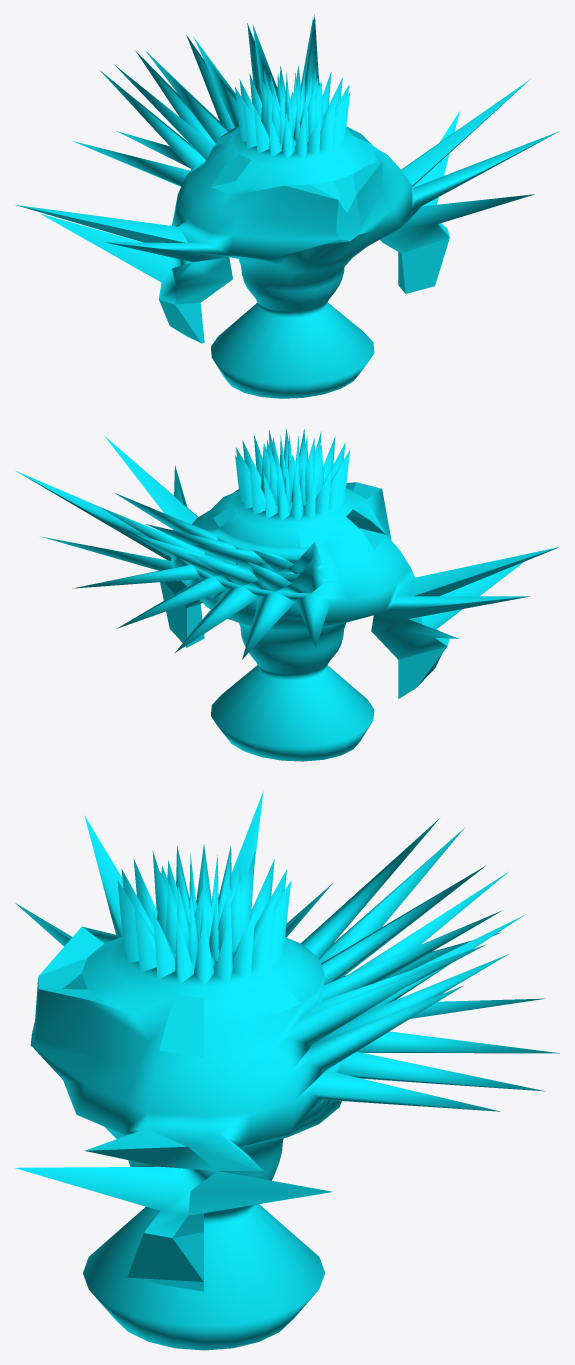
3 renders of one model, top to bottom at view 1: azimuth 30°, elevation 25°; view 2: azimuth 150°, elevation 25°; view 3: azimuth 270°, elevation 25°, orthographic. The views are drawn at different scales.
Visible parts, largest first — view 1: Water_Elemental; view 2: Water_Elemental; view 3: Water_Elemental.
Boxes of the visible parts, x1,y1,x2,y2 form: Water_Elemental: [16, 14, 559, 398]; Water_Elemental: [15, 428, 559, 761]; Water_Elemental: [14, 791, 559, 1350].
Size of the model in its own units: 2.95 by 1.59 by 1.79.
